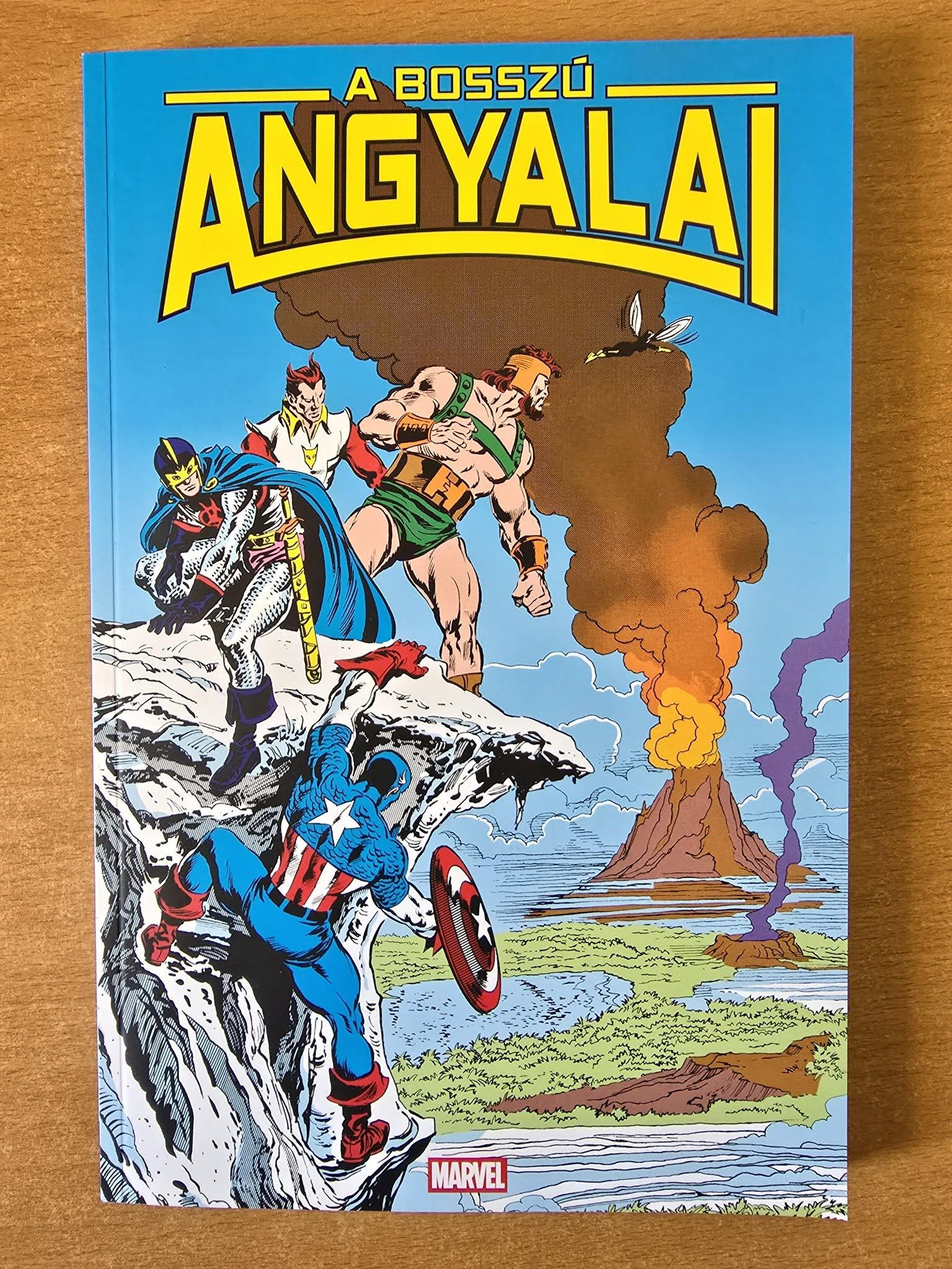comic: (85, 38, 851, 1216)
